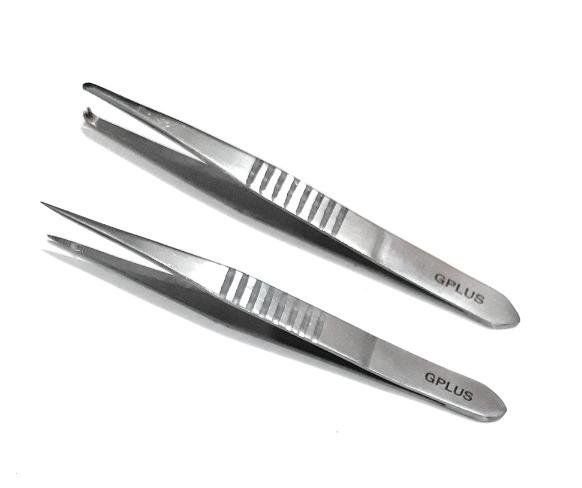Dissecting Forceps Plain: (39, 196, 508, 428)
Dissecting Forceps Tooth: (77, 74, 519, 334)
